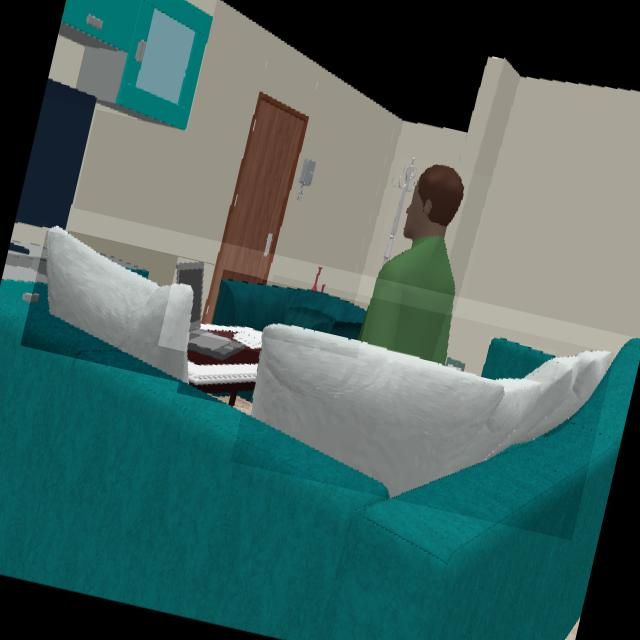book: (232, 328, 261, 350)
cabinet: (57, 0, 213, 130)
laptop: (175, 263, 244, 360)
monitor: (14, 79, 96, 229)
person: (358, 166, 464, 364)
pillow: (250, 324, 613, 499), (46, 227, 194, 382)
sofa: (0, 287, 640, 640), (211, 281, 367, 340), (481, 339, 554, 380)
table: (187, 344, 260, 406)
